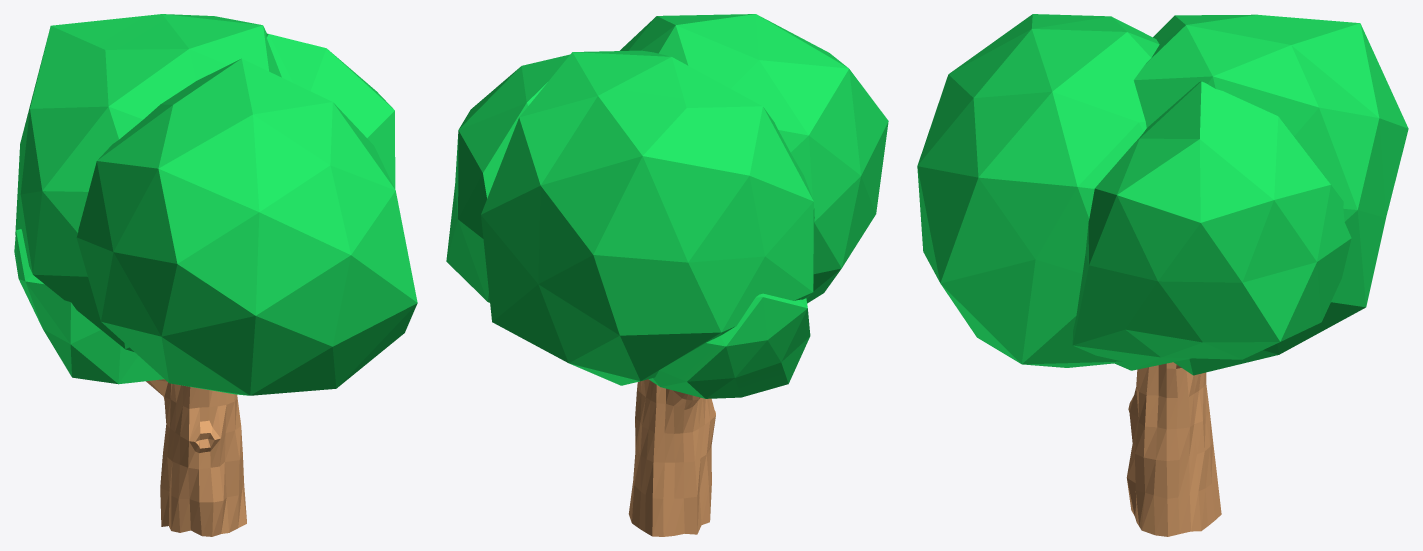
File: tree.glb
The picture shows the model from 3 angles, left to right: view 1: azimuth 30°, elevation 25°; view 2: azimuth 150°, elevation 25°; view 3: azimuth 270°, elevation 25°; orthographic projection. The views are drawn at different scales.
Parts seen in each view (by area): view 1: Icosphere, Cylinder; view 2: Icosphere, Cylinder; view 3: Icosphere, Cylinder.
Part boxes in pixels (x1,y1,x2,y2): Icosphere: (14,14,417,395); Cylinder: (146,379,246,536); Icosphere: (446,14,888,398); Cylinder: (628,379,715,536); Icosphere: (917,14,1408,375); Cylinder: (1126,362,1221,536).
Size of the model in its own units: 16.5 by 21.82 by 19.57.
